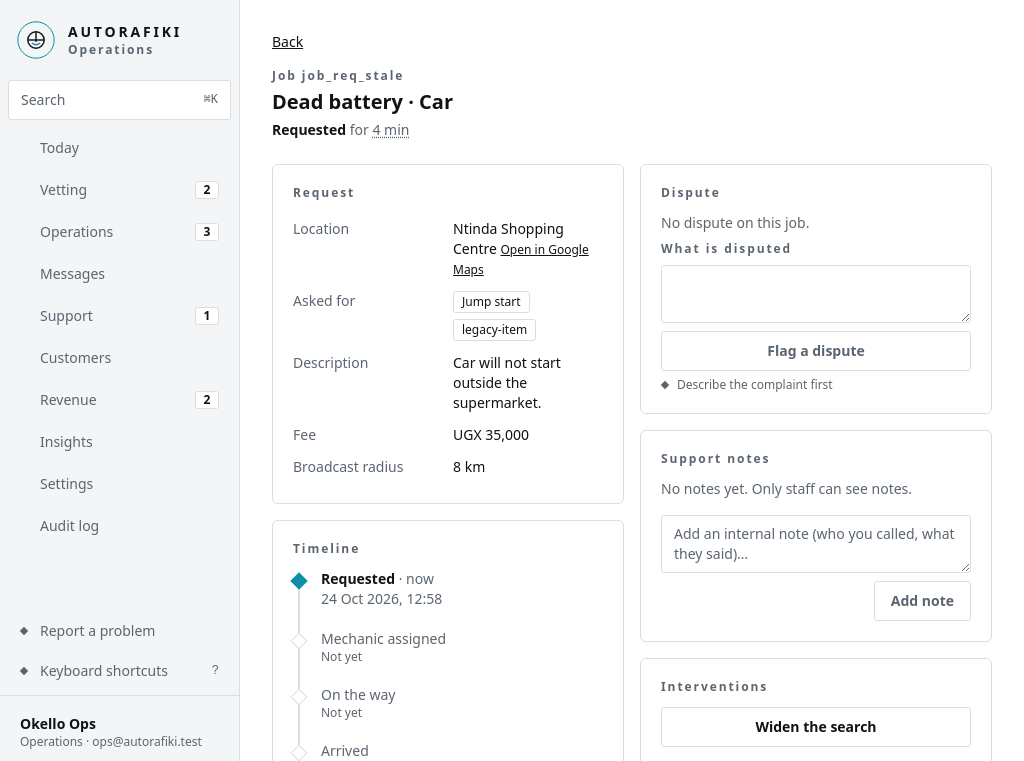
Test case: interventions › widens an open request: wider radii only, fresh window, noted and visible
The width and height of the screenshot is (1024, 761).
Click the button "Widen the search" at (816, 727), box [661,707,971,747]
(page scrolled)
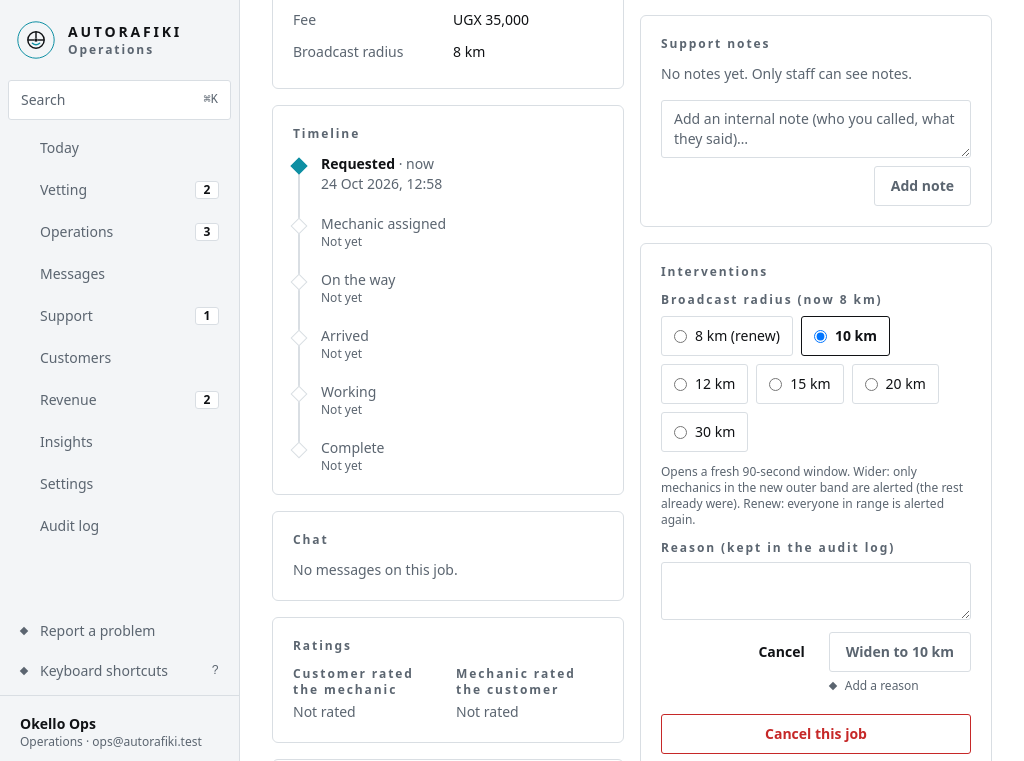
Click the radio button labelled "12 km" at (680, 384), box [674,378,687,390]
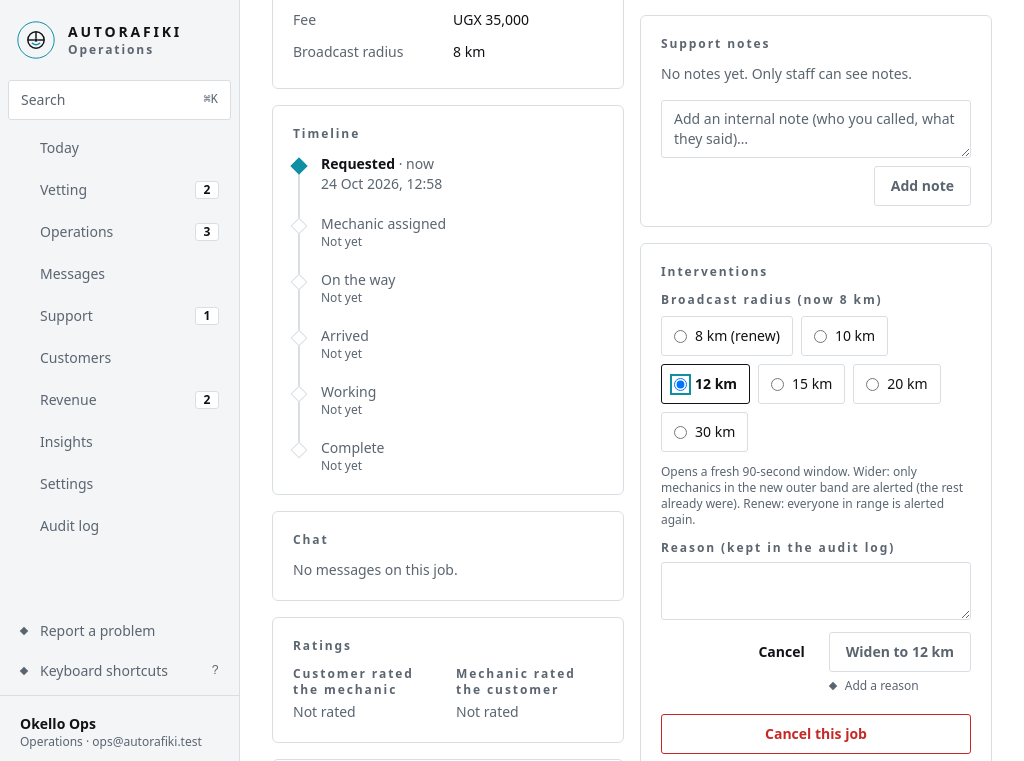
Type "No taker for 4 minutes" into the text box labelled "Reason (kept in the audit log)" at (816, 591), box [661,562,971,620]
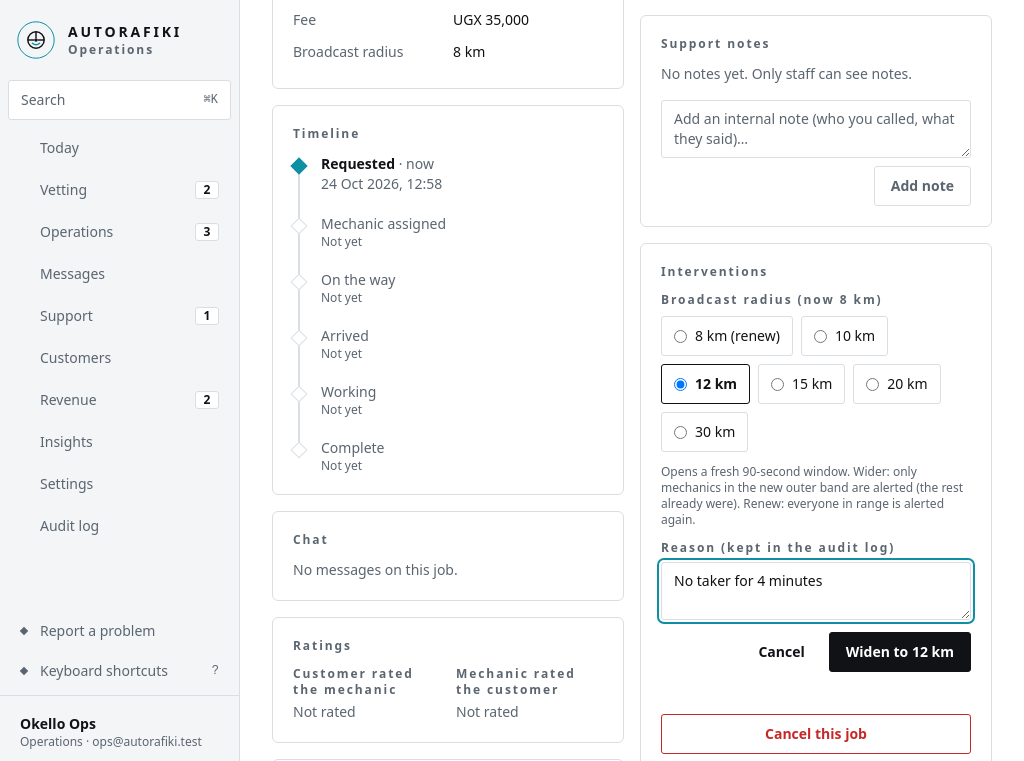
Click the button "Widen to 12 km" at (900, 652), box [829,632,971,672]
(page scrolled)
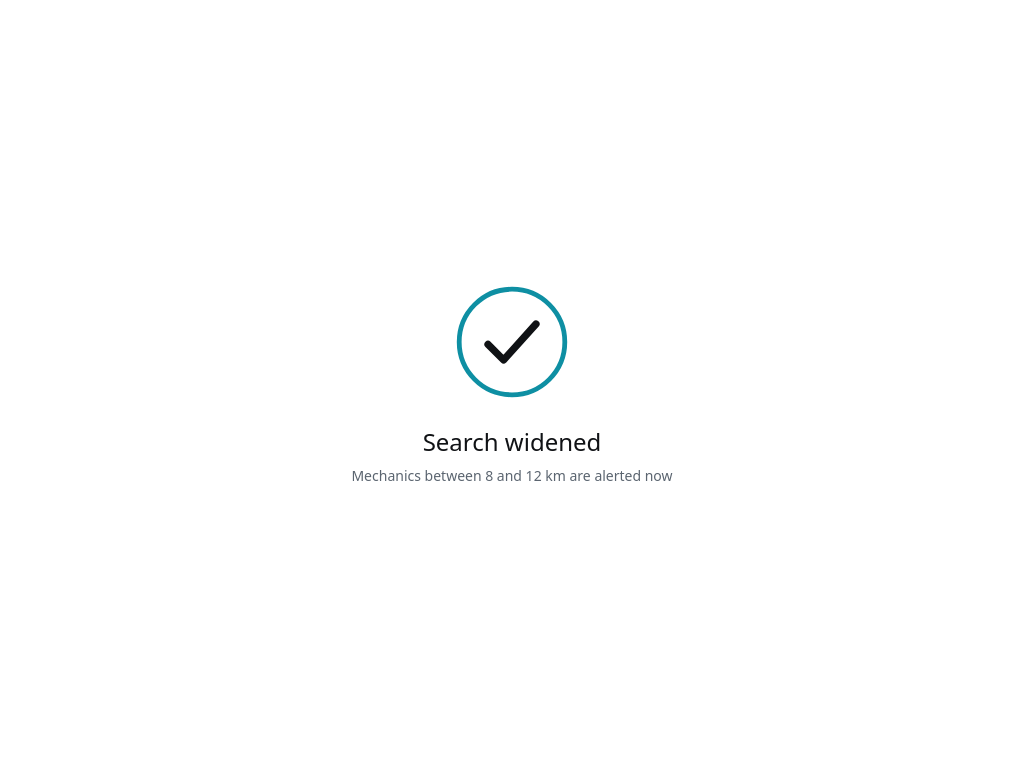
Now the text "Search widened" is shown, box [423,426,601,458]
